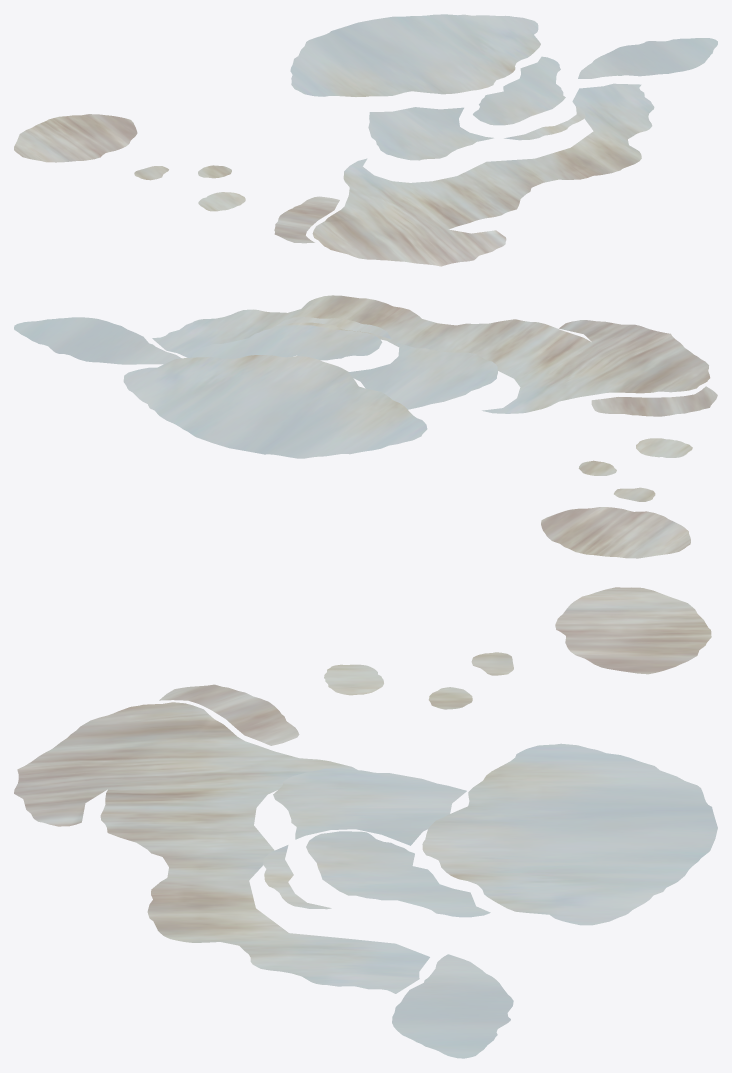
File: M5_T_shanti003.FBX
The picture shows the model from 3 angles, top to bottom: view 1: azimuth 30°, elevation 25°; view 2: azimuth 150°, elevation 25°; view 3: azimuth 270°, elevation 25°; orthographic projection. The views are drawn at different scales.
Parts seen in each view (by area): view 1: M5_T_shanti003; view 2: M5_T_shanti003; view 3: M5_T_shanti003.
Boxes of the visible parts, x1,y1,x2,y2 form: M5_T_shanti003: (14, 14, 717, 266); M5_T_shanti003: (14, 295, 717, 558); M5_T_shanti003: (14, 587, 717, 1058).
Bounding box in the file's own units: 8298 × 439 × 5280.
